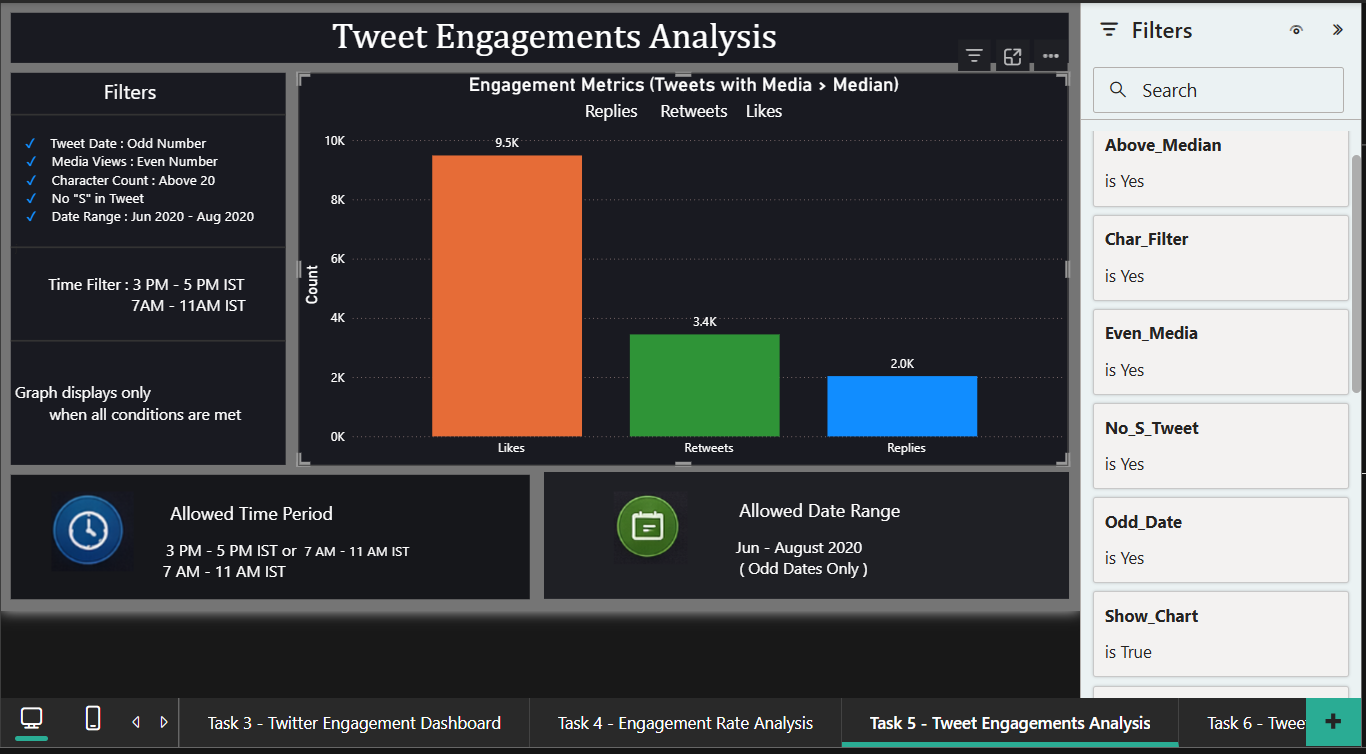

The dashboard page shown, as its layout file describes it:
{"tool":"powerbi","page":{"name":"Task 5 - Tweet Engagements Analysis","canvas":[1280,720],"ordinal":4},"visuals":[{"type":"textbox","box":[11.6,11.6,1254.6,59.6],"z":0},{"type":"textbox","box":[643.9,556,622.3,150.6],"z":0,"group":"g1"},{"type":"textbox","box":[11.6,559.4,615.7,147.3],"z":0,"group":"g2"},{"type":"clusteredColumnChart","title":"Engagement Metrics (Tweets with Media > Median)","fields":{"Category":["Metrics.Type"],"Y":["Metrics.Value"]},"box":[352.5,82.8,913.6,465.1],"z":1000},{"type":"image","box":[678.2,579.1,183.5,86.1],"z":1000,"group":"g1"},{"type":"image","box":[29.5,579.7,157.3,94.7],"z":1000,"group":"g2"},{"type":"textbox","box":[11.6,82.8,326.1,465.1],"z":2000},{"type":"shape","box":[11.6,120.8,326.1,23.2],"z":3000},{"type":"shape","box":[11.6,281.4,326.1,16.6],"z":4000},{"type":"shape","box":[11.6,377.4,326.1,46.3],"z":5000},{"type":"group","id":"g1","title":"Group 1","box":[643.9,556,622.3,150.6],"z":6000},{"type":"group","id":"g2","title":"Group 2","box":[11.6,559.4,615.7,147.3],"z":7000}]}

Visuals, with their boxes on the page's 1280x720 design canvas (x1, y1, x2, y2). These are canvas units, not pixel positions in the 1366x754 screenshot, which may show the page scaled, cropped or inside an application window:
textbox: (12,12,1266,71)
textbox: (644,556,1266,707)
textbox: (12,559,627,707)
"Engagement Metrics (Tweets with Media > Median)" clusteredColumnChart: (352,83,1266,548)
image: (678,579,862,665)
image: (30,580,187,674)
textbox: (12,83,338,548)
shape: (12,121,338,144)
shape: (12,281,338,298)
shape: (12,377,338,424)
"Group 1" group: (644,556,1266,707)
"Group 2" group: (12,559,627,707)
